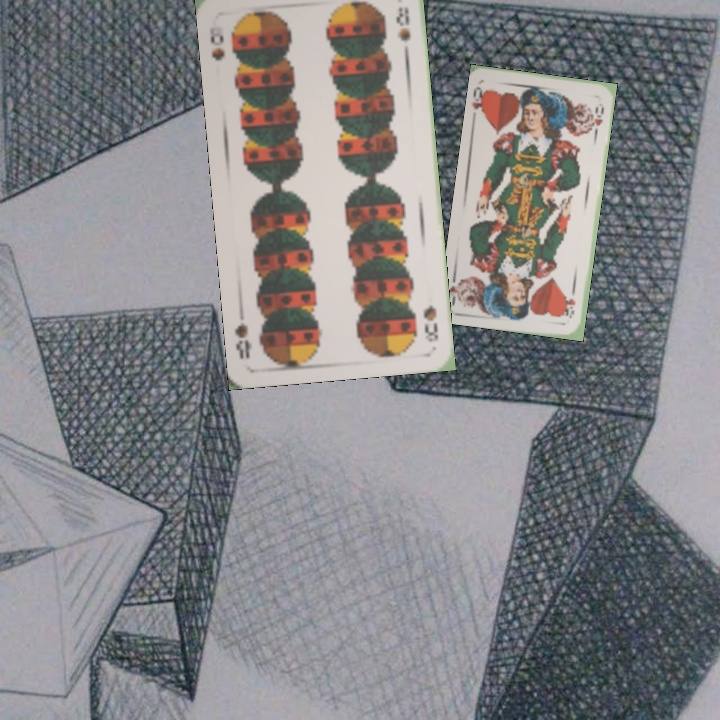HO: (468, 82, 490, 120), (562, 283, 578, 321)
S8: (419, 301, 441, 345), (206, 31, 227, 64)
